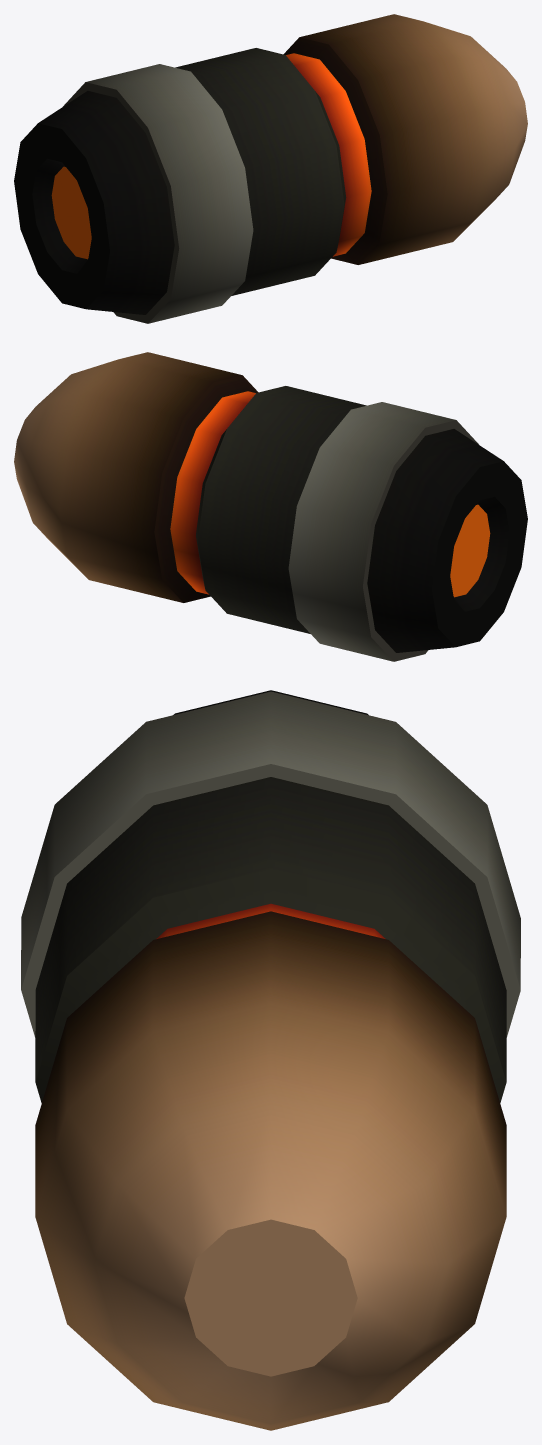
Rendered from Launchershell_GL1.fbx.
The picture shows the model from 3 angles, top to bottom: view 1: azimuth 30°, elevation 25°; view 2: azimuth 150°, elevation 25°; view 3: azimuth 270°, elevation 25°; orthographic projection. The views are drawn at different scales.
Parts seen in each view (by area): view 1: Launchershell_GL1; view 2: Launchershell_GL1; view 3: Launchershell_GL1.
Part boxes in pixels (box(x1,y1,x2,y2)): Launchershell_GL1: box(14, 14, 527, 323); Launchershell_GL1: box(14, 352, 527, 661); Launchershell_GL1: box(21, 690, 520, 1430).
Size of the model in its own units: 9.86 by 4.8 by 4.8.
